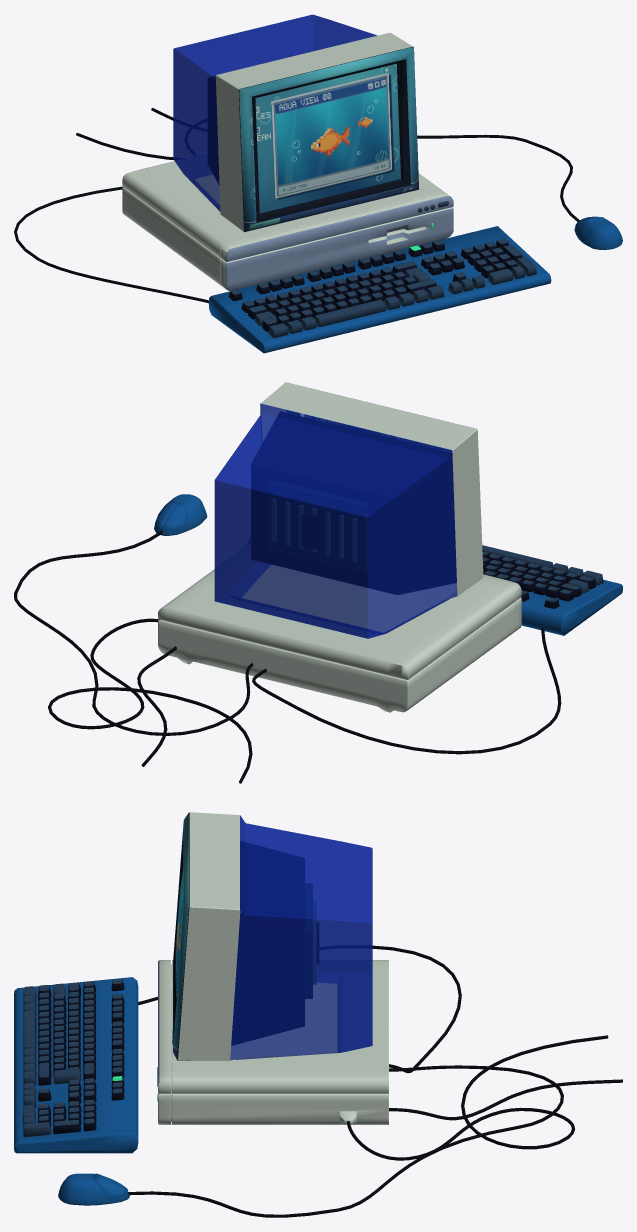
Rendered from aqua-view-crt.obj.
3 views of the same model, one above another, from view 1: azimuth 30°, elevation 25°; view 2: azimuth 150°, elevation 25°; view 3: azimuth 270°, elevation 25° (orthographic). The views are drawn at different scales.
Visible parts, largest first — view 1: beziercurve-000_mesh-002, aqua-view-crt-inner-shroud; view 2: beziercurve-000_mesh-002, aqua-view-crt-inner-shroud; view 3: beziercurve-000_mesh-002, aqua-view-crt-inner-shroud.
Part boxes in pixels (left/top/right/bottom): beziercurve-000_mesh-002: left=14, top=14, right=622, bottom=353; aqua-view-crt-inner-shroud: left=208, top=76, right=219, bottom=184; beziercurve-000_mesh-002: left=14, top=382, right=622, bottom=783; aqua-view-crt-inner-shroud: left=251, top=411, right=456, bottom=594; beziercurve-000_mesh-002: left=14, top=812, right=622, bottom=1217; aqua-view-crt-inner-shroud: left=231, top=841, right=318, bottom=1045.
Size of the model in its own units: 0.7029 by 0.2605 by 0.6683.
13 materials, 1 textured.
